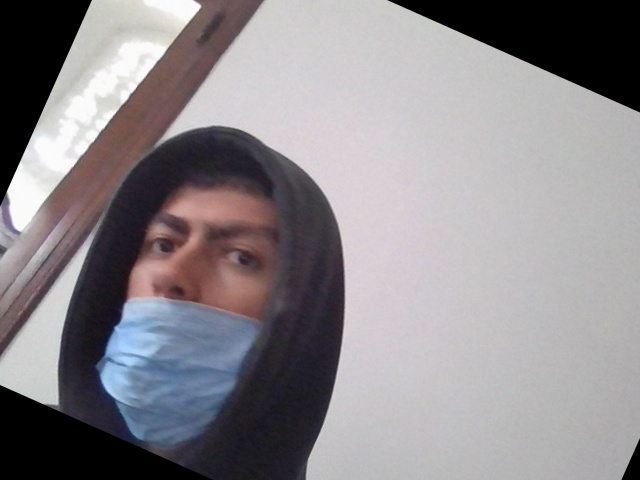mask_weared_incorrect: (96, 158, 304, 459)
